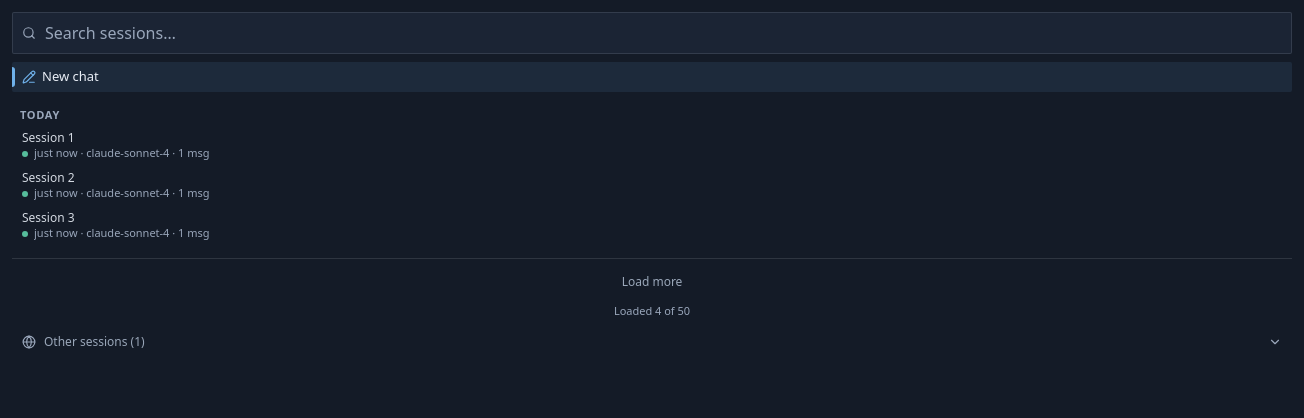
Test: SessionList dense rail (connected) › reveals the folded external sessions when the "Other sessions" toggle is expanded
The image size is (1304, 418).
Expected: the text "Session 1" is shown, 22,129 -> 75,146
Click the button "Other sessions (1)".
click(89, 342)  # box 12,327 -> 1292,357
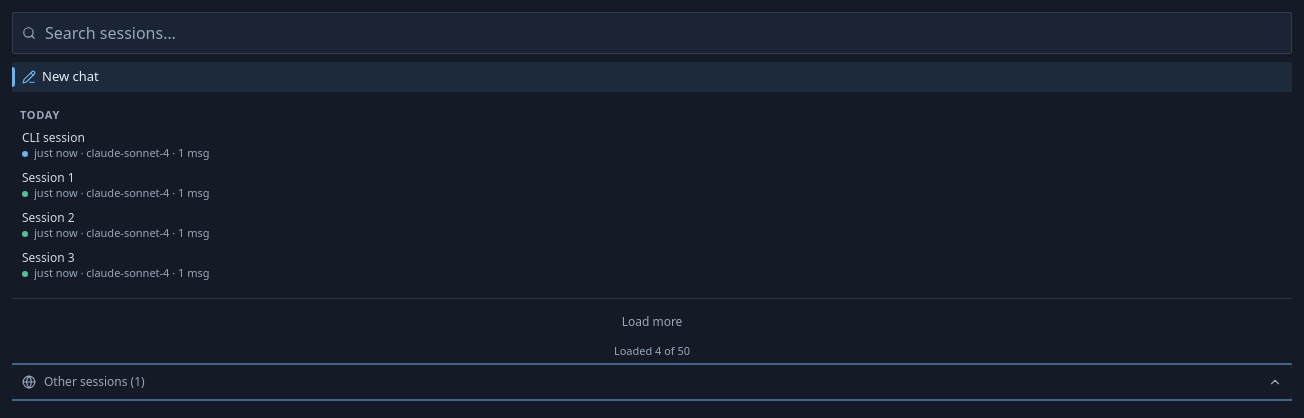
Result: the text "CLI session" is shown at 22,129 -> 85,146
